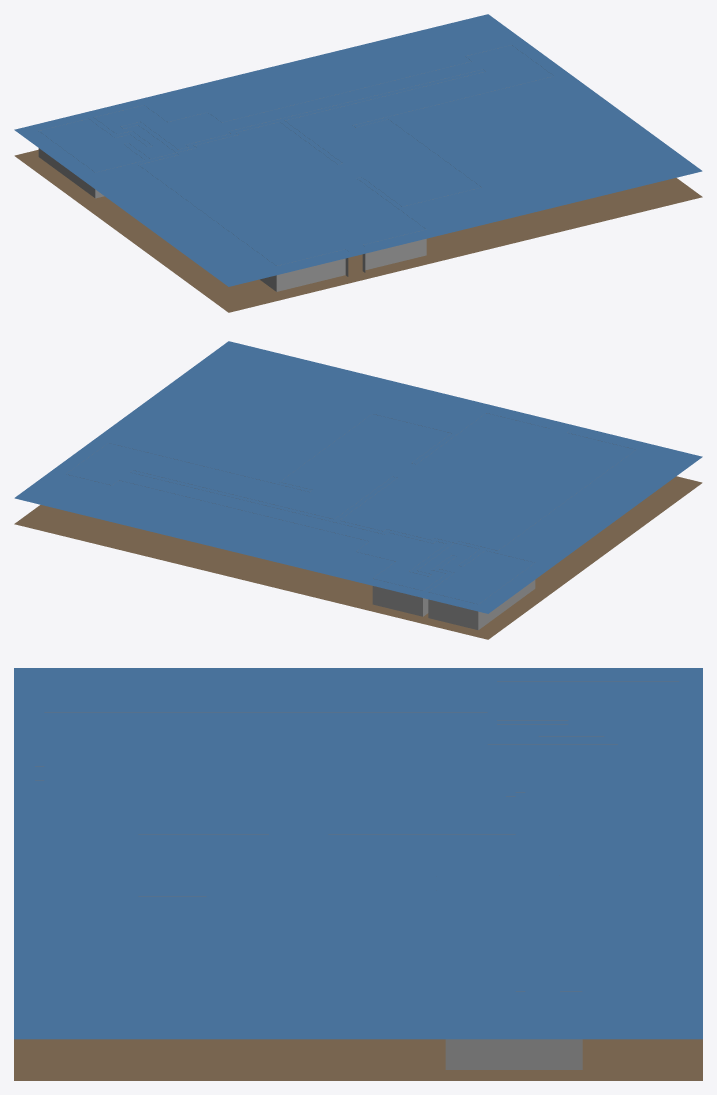
The model's file is Starting_Location.fbx.
3 renders of one model, top to bottom at view 1: azimuth 30°, elevation 25°; view 2: azimuth 150°, elevation 25°; view 3: azimuth 270°, elevation 25°, orthographic. The views are drawn at different scales.
Visible parts, largest first — view 1: Ceiling, Floor, Walls; view 2: Ceiling, Floor, Walls; view 3: Ceiling, Floor, Walls.
Boxes of the visible parts, <box> form: Ceiling: <box>14,14,702,286</box>; Floor: <box>14,149,702,312</box>; Walls: <box>38,45,550,291</box>; Ceiling: <box>14,341,702,613</box>; Floor: <box>14,476,702,639</box>; Walls: <box>68,413,628,630</box>; Ceiling: <box>14,668,702,1039</box>; Floor: <box>14,1039,702,1080</box>; Walls: <box>35,681,678,1069</box>.
Bounding box in the file's own units: 94.07 × 5.42 × 73.77.
